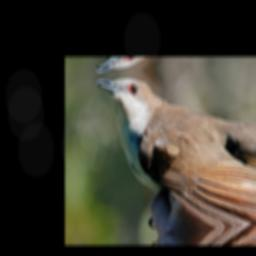Cuckoo: (96, 61, 256, 242)
